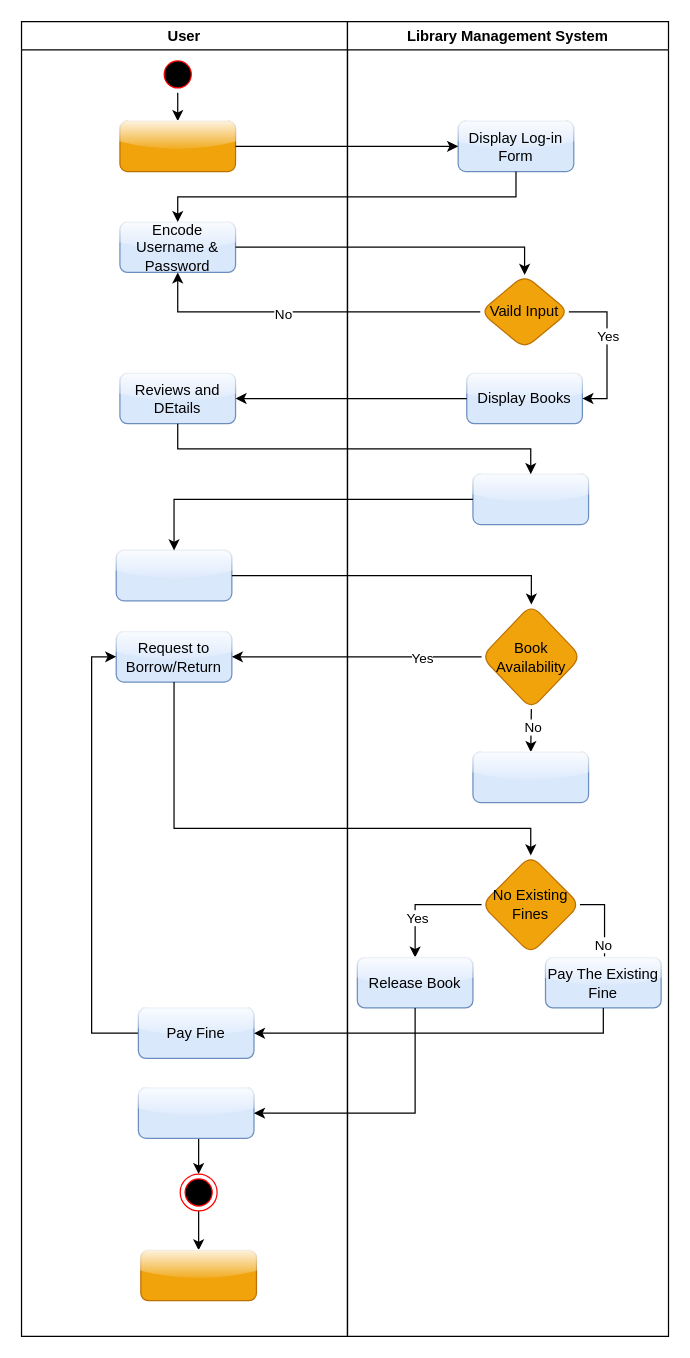
This 690x1358 diagram has some shape labels left out. The box of each missing label's shape, as (x1, y1, x2, y2) in pixels:
Display Reviews & Details: (472, 473, 589, 525)
End: (140, 1249, 256, 1301)
Get The Book: (137, 1087, 254, 1138)
No Borrow Button: (472, 751, 589, 803)
Search For Book: (115, 549, 232, 601)
Start: (119, 120, 236, 172)
